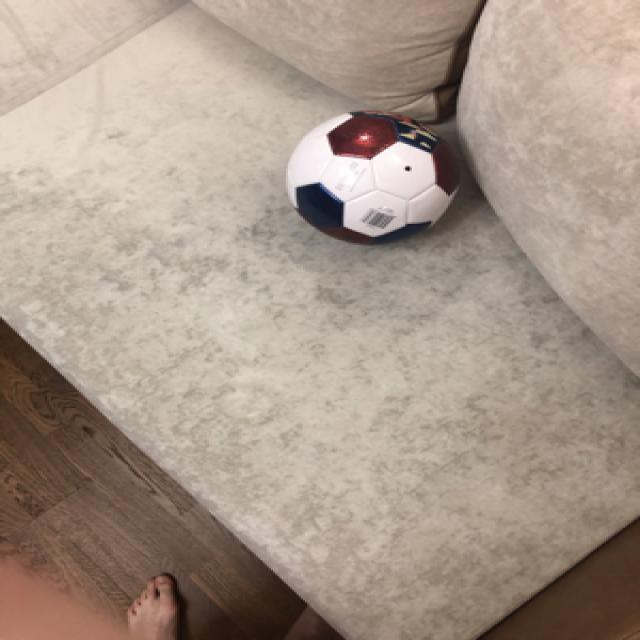soccer_ball: (279, 108, 463, 246)
